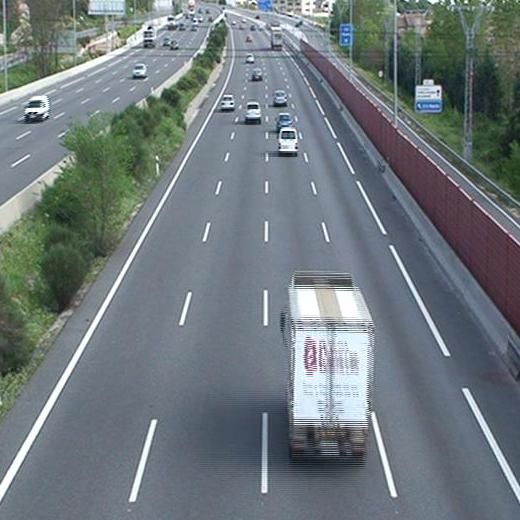car: (242, 102, 260, 124), (220, 92, 234, 110), (273, 91, 288, 105), (251, 68, 263, 81), (244, 53, 252, 63)
small-truck: (280, 274, 376, 458)
truck: (270, 27, 281, 50)
van: (276, 128, 299, 157)
